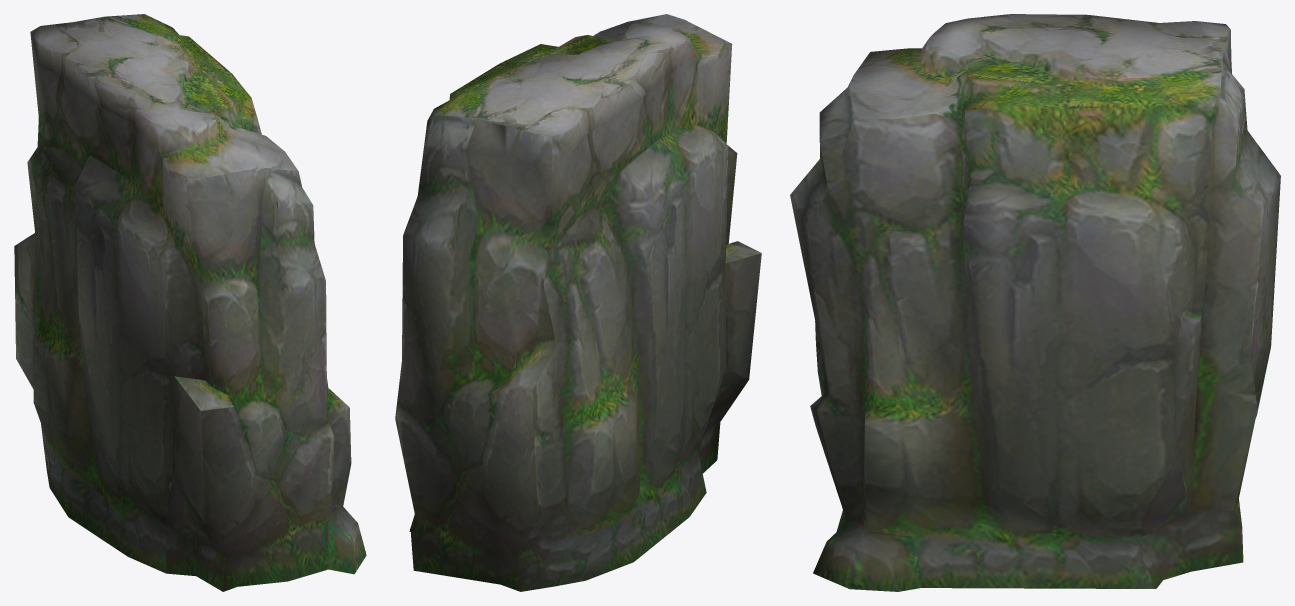
The model's file is wlf_shanshi01_w.FBX.
3 views of the same model, side by side, from view 1: azimuth 30°, elevation 25°; view 2: azimuth 150°, elevation 25°; view 3: azimuth 270°, elevation 25° (orthographic). The views are drawn at different scales.
Visible parts, largest first — view 1: wlf_shanshi01_w; view 2: wlf_shanshi01_w; view 3: wlf_shanshi01_w.
Boxes of the visible parts, x1=… form: wlf_shanshi01_w: x1=14, y1=14, x2=366, y2=591; wlf_shanshi01_w: x1=395, y1=14, x2=761, y2=591; wlf_shanshi01_w: x1=790, y1=14, x2=1280, y2=591.
Size of the model in its own units: 126 by 280 by 255.
